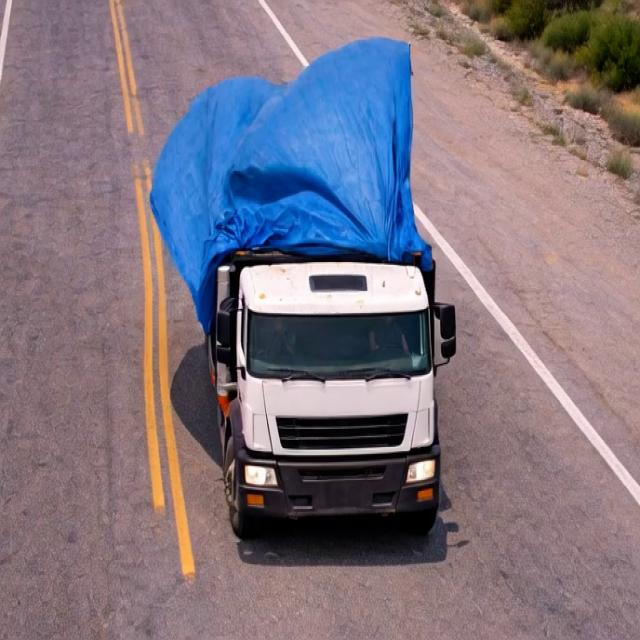Box: (146, 37, 466, 285)
Truck: (133, 28, 476, 549)
